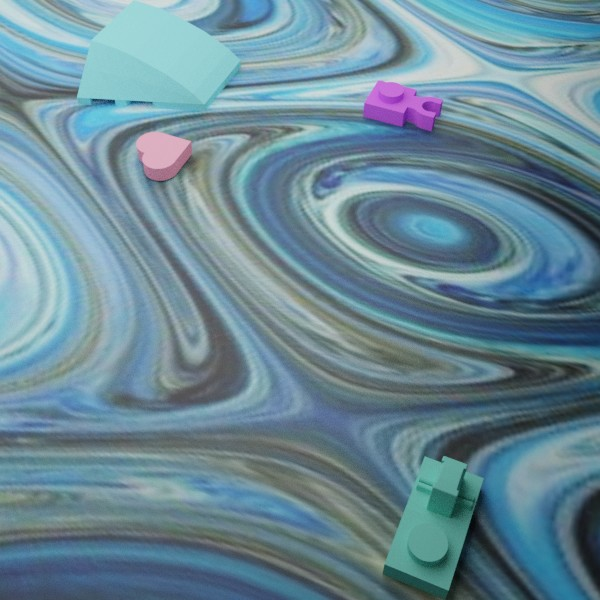lego: (76, 0, 240, 111), (382, 456, 483, 600), (363, 79, 443, 131), (136, 131, 192, 180)
